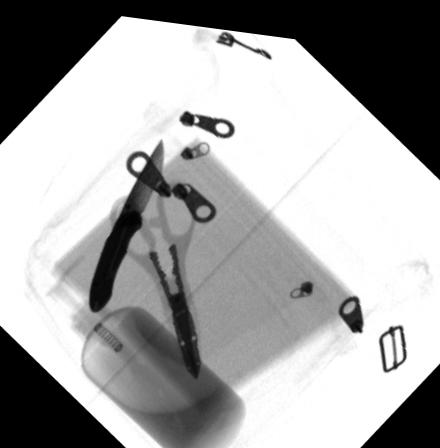Knife: (89, 133, 164, 309)
Scissors: (110, 177, 203, 374)
